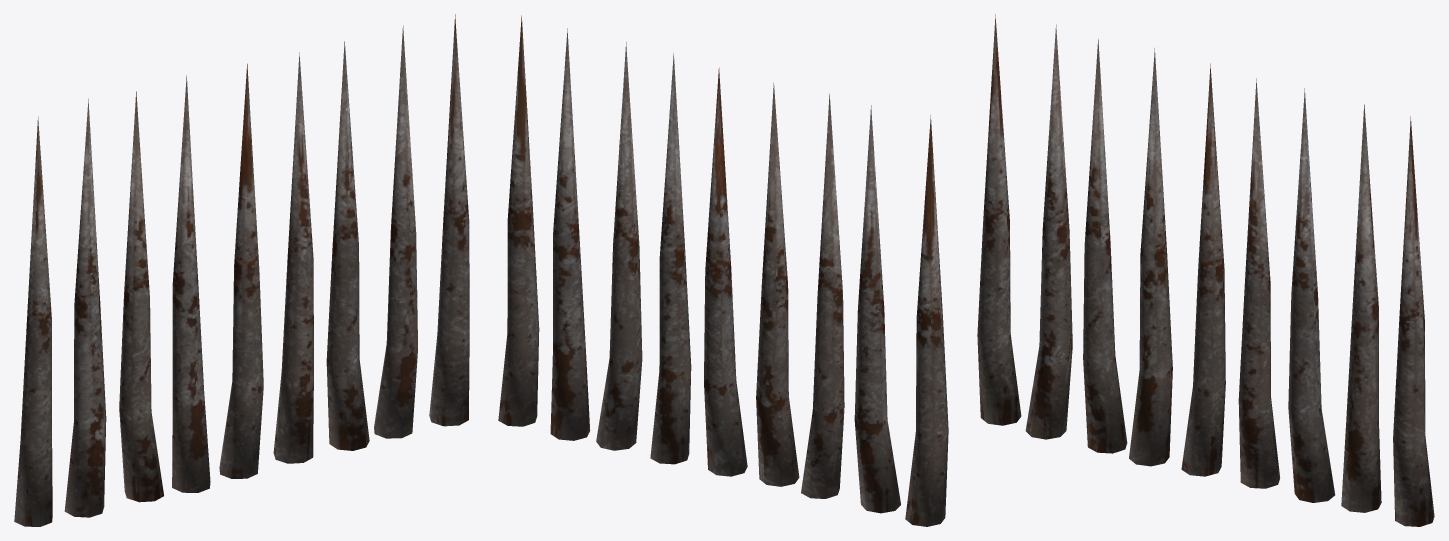
Rendered from Puerta.obj.
3 renders of one model, left to right at view 1: azimuth 30°, elevation 25°; view 2: azimuth 150°, elevation 25°; view 3: azimuth 330°, elevation 25°, orthographic.
Visible parts, largest first — view 1: PuertaPinchos; view 2: PuertaPinchos; view 3: PuertaPinchos.
Part boxes in pixels (x1,y1,x2,y2): PuertaPinchos: (14, 14, 469, 526); PuertaPinchos: (498, 15, 948, 526); PuertaPinchos: (977, 14, 1434, 526).
Bounding box in the file's own units: 13.88 × 12 × 1.37.
1 material, 1 textured.
